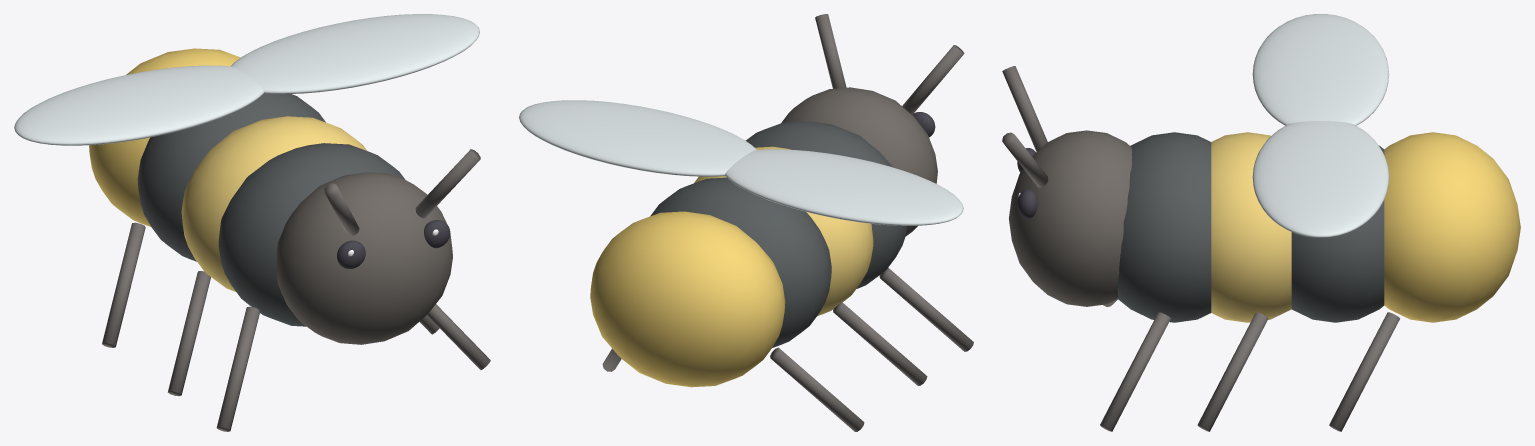
Rendered from bee-honeybee.glb.
The picture shows the model from 3 angles, left to right: view 1: azimuth 30°, elevation 25°; view 2: azimuth 150°, elevation 25°; view 3: azimuth 270°, elevation 25°; orthographic projection. The views are drawn at different scales.
Parts seen in each view (by area): view 1: material_c8d8dc, material_292521, material_191c1d, material_e6ae37, material_2d2927, material_e5a72c, material_100f13; view 2: material_e5a72c, material_c8d8dc, material_191c1d, material_2d2927, material_292521, material_e6ae37; view 3: material_c8d8dc, material_191c1d, material_e5a72c, material_292521, material_e6ae37, material_2d2927, material_100f13.
Boxes of the visible parts, x1,y1,x2,y2 form: material_c8d8dc: (14, 14, 479, 145); material_292521: (275, 172, 452, 344); material_191c1d: (137, 93, 405, 326); material_e6ae37: (181, 116, 366, 291); material_2d2927: (102, 149, 490, 431); material_e5a72c: (89, 48, 240, 226); material_100f13: (337, 220, 450, 268); material_e5a72c: (590, 211, 785, 387); material_c8d8dc: (519, 100, 963, 225); material_191c1d: (650, 121, 907, 347); material_2d2927: (602, 14, 973, 431); material_292521: (781, 87, 937, 236); material_e6ae37: (694, 146, 873, 316); material_c8d8dc: (1252, 14, 1389, 237); material_191c1d: (1117, 132, 1384, 322); material_e5a72c: (1384, 132, 1520, 322); material_292521: (1008, 130, 1132, 306); material_e6ae37: (1211, 132, 1291, 322); material_2d2927: (1002, 66, 1400, 431); material_100f13: (1017, 148, 1037, 218).
Size of the model in its own units: 1.08 by 0.6097 by 1.06.
